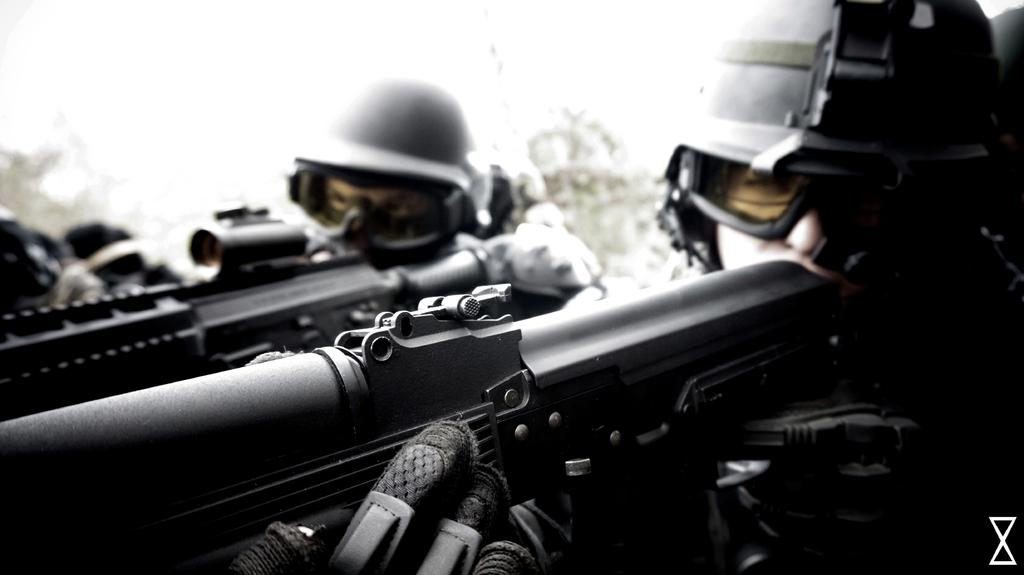Rifle: (0, 170, 916, 575)
